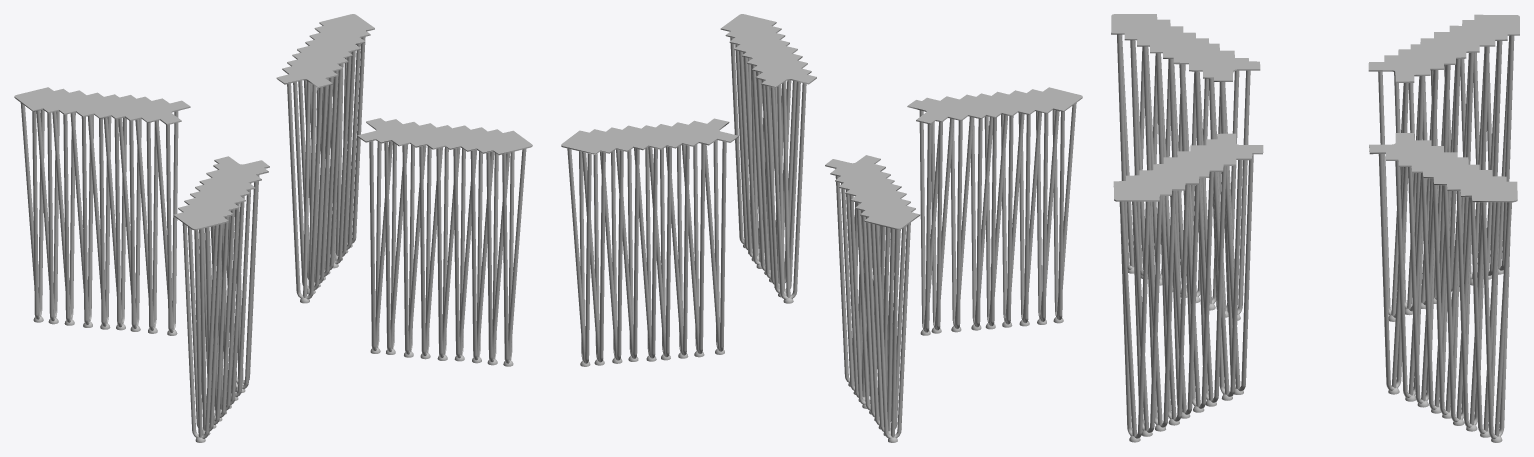
The model's file is Hairpin .glb.
The picture shows the model from 3 angles, left to right: view 1: azimuth 30°, elevation 25°; view 2: azimuth 150°, elevation 25°; view 3: azimuth 270°, elevation 25°; orthographic projection. The views are drawn at different scales.
Visible parts, largest first — view 1: Round_Hairpin_LEG_ROUND_TABLE; view 2: Round_Hairpin_LEG_ROUND_TABLE; view 3: Round_Hairpin_LEG_ROUND_TABLE.
Part boxes in pixels (box(x1,y1,x2,y2)): Round_Hairpin_LEG_ROUND_TABLE: box(14, 14, 532, 442); Round_Hairpin_LEG_ROUND_TABLE: box(561, 14, 1082, 442); Round_Hairpin_LEG_ROUND_TABLE: box(1111, 14, 1519, 442).
Size of the model in its own units: 1.16 by 0.7202 by 1.07.
1 material, 1 textured.
